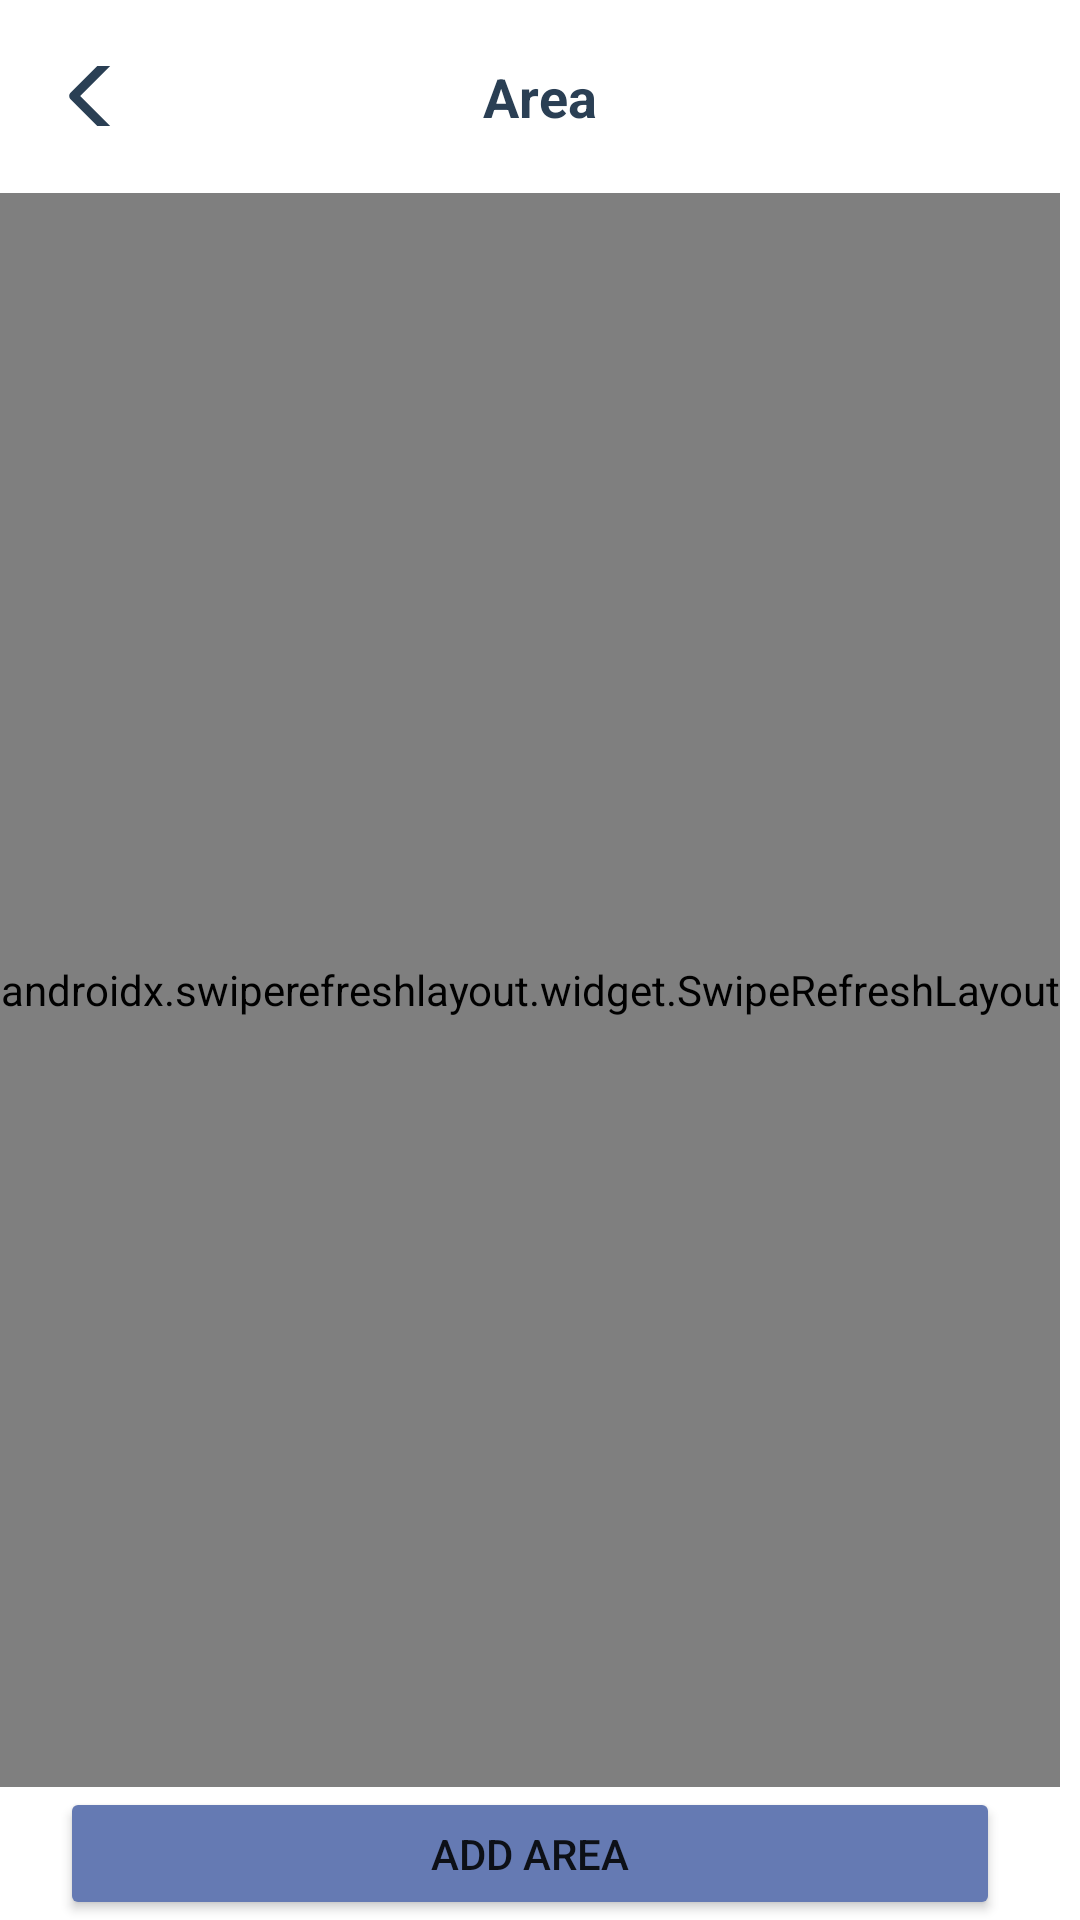

Named icons in this screenshot (1080×1920) and their centers, (x=x, y=y):
iconback: (x=89, y=96)
